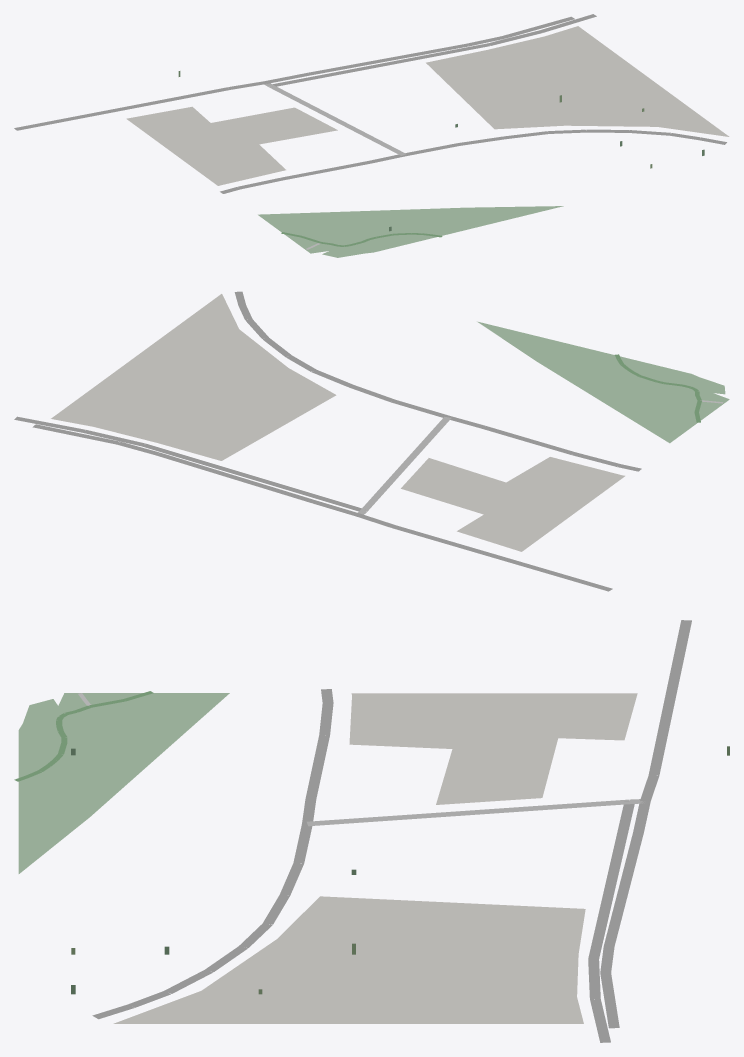
The picture shows the model from 3 angles, top to bottom: view 1: azimuth 30°, elevation 25°; view 2: azimuth 150°, elevation 25°; view 3: azimuth 270°, elevation 25°; orthographic projection. The views are drawn at different scales.
Size of the model in its own units: 637 by 8.1 by 459.
